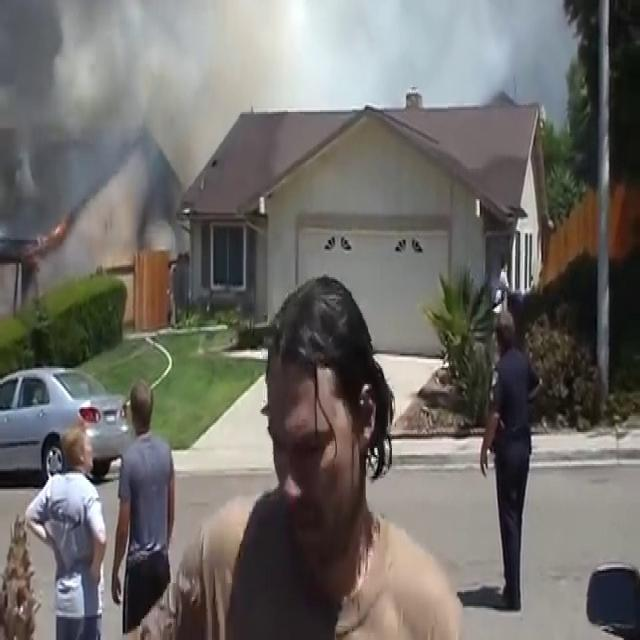Smoke: (0, 0, 199, 260)
